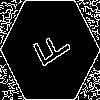F: (25, 25, 72, 75)
